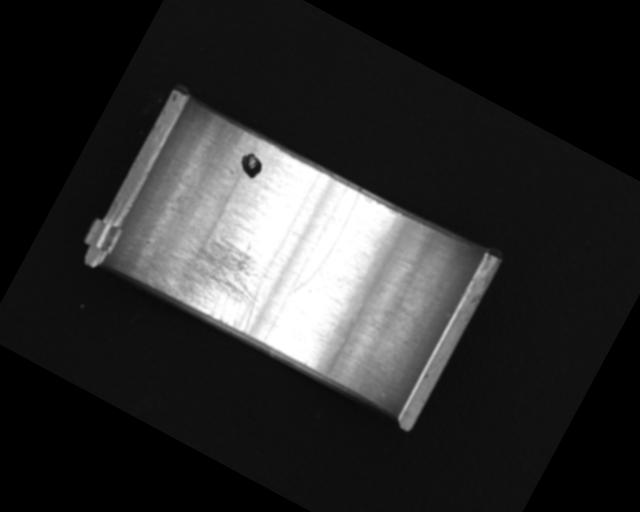blot: (233, 148, 268, 183)
nick: (291, 183, 365, 300)
scratch: (144, 206, 286, 337)
